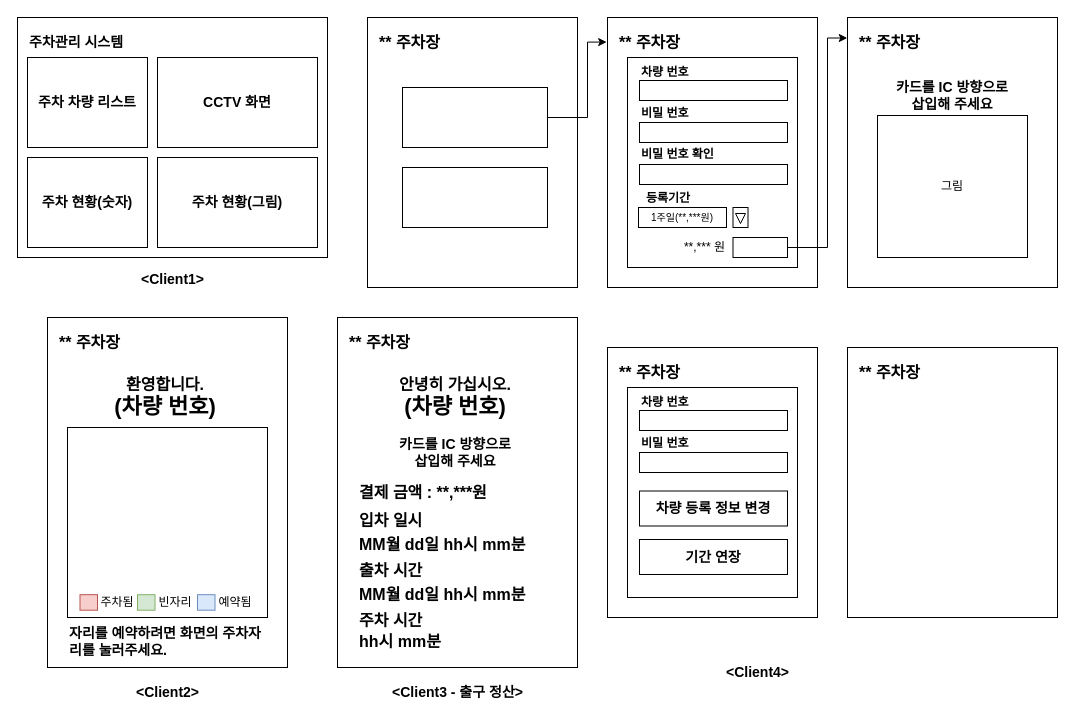
The diagram is 1075 pixels wide and 725 high, and some of its shapes have lost their labels. The shapes that lost their labels are listed below. From the top down, each one's box as (x1, y1, x2, y2) in pixels, then its label:
(402, 86, 548, 148): 정기 차량 등록
(402, 166, 548, 228): 정기 차량 정보 수정
(732, 236, 788, 258): 결제하기
(66, 426, 268, 618): 빈자리 안내(그림)
